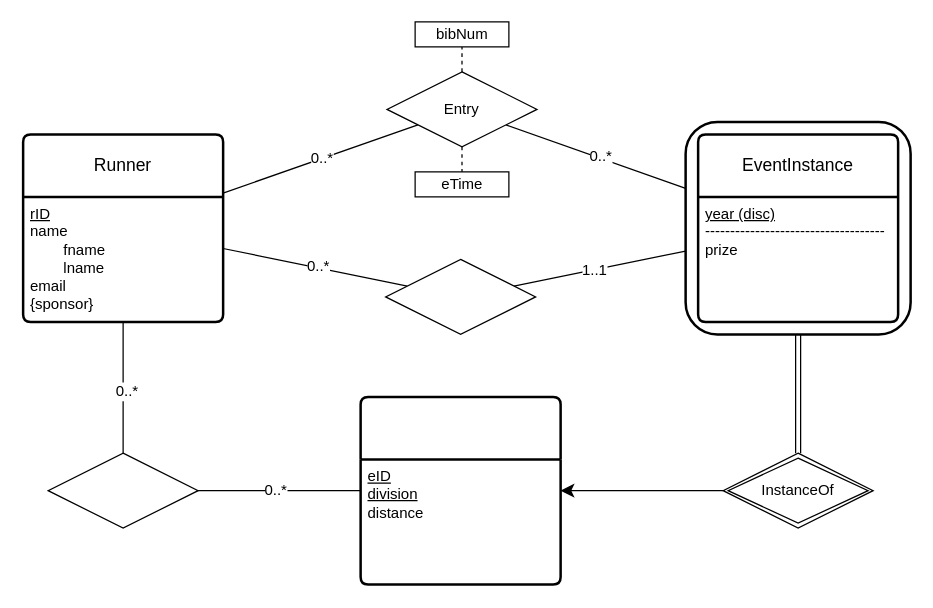
The diagram is 933 pixels wide and 608 high, and some of its shapes have lost their labels. Each missing label, with the box of its shape:
Event: (359, 395, 561, 585)
LifeMember: (47, 452, 198, 528)
Win: (384, 258, 536, 334)
